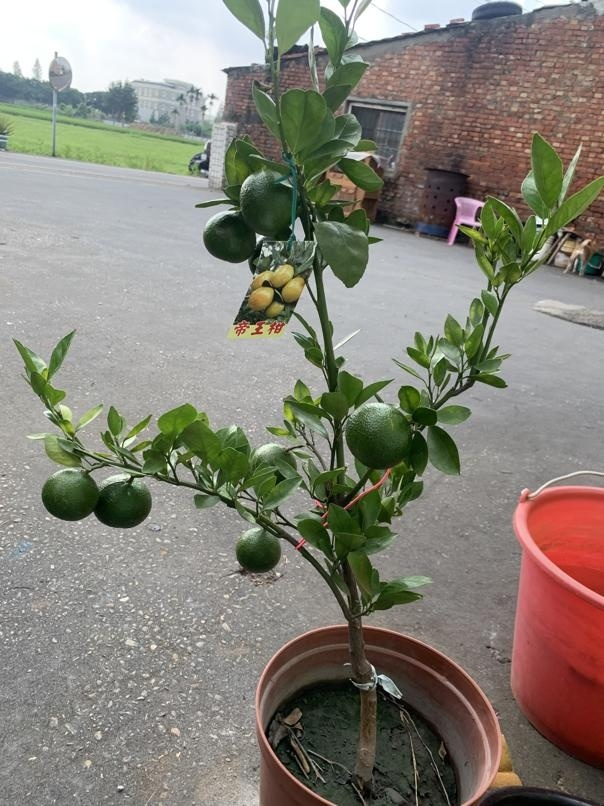Tangerine: (343, 403, 415, 468), (239, 169, 300, 237), (39, 463, 100, 524), (94, 472, 155, 531), (203, 208, 258, 265), (234, 523, 284, 573)
